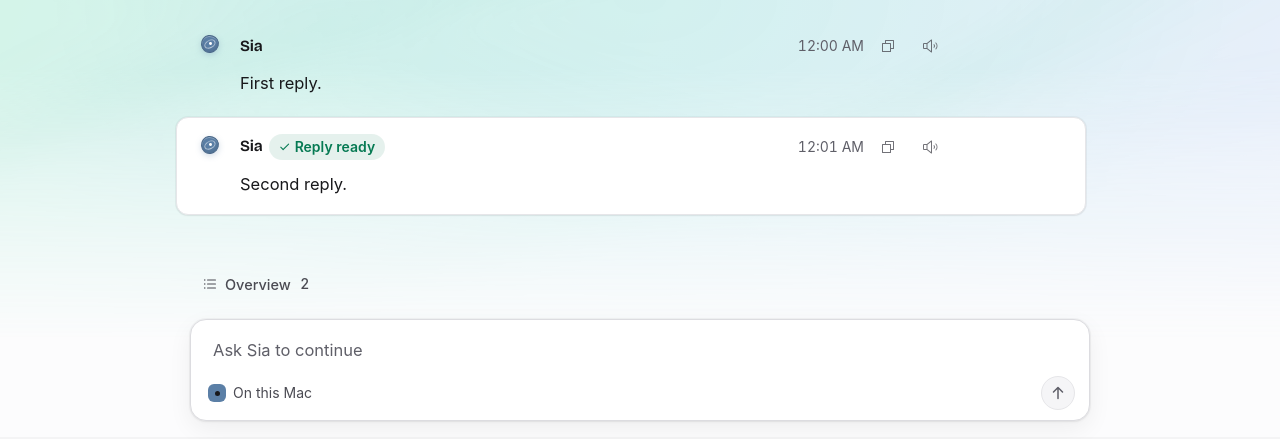
Test: Conversation waiting controls › keeps only one read-aloud request active across replies
Click the button named "Read reply aloud" next to "12:00 AM": (930, 46) [912,28,948,64]
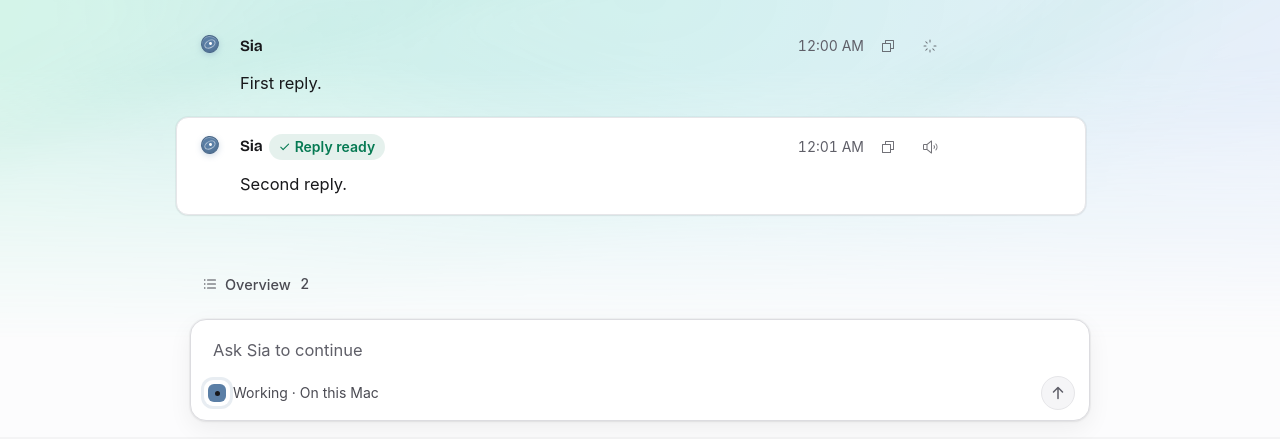
Check: the button named "Cancel read aloud" is shown, box [912,28,948,64]
Click the 2nd button with test id "message-read-aloud": (930, 147) [912,129,948,165]
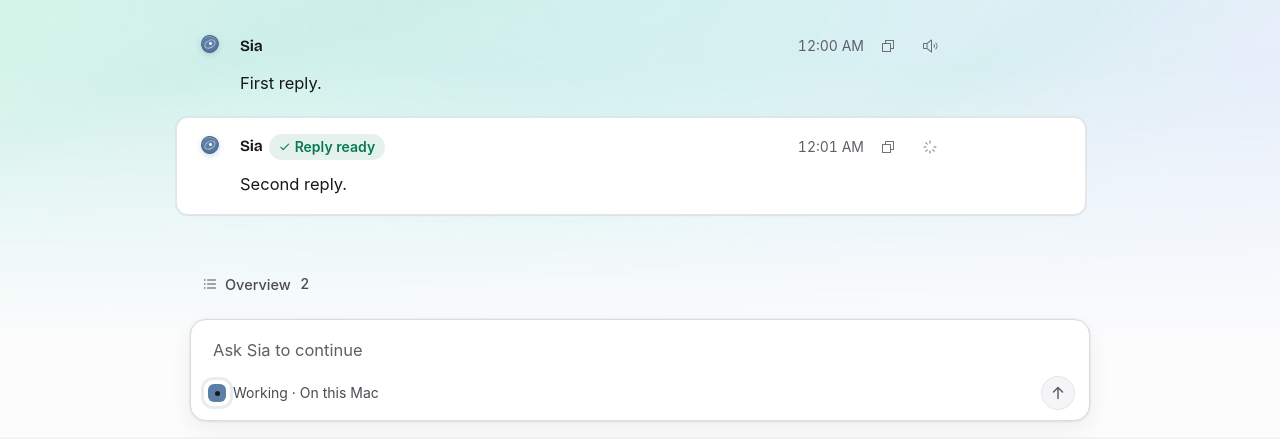
Check: the number of buttons named "Read reply aloud" is 1, box [912,28,948,64]
Check: the button named "Cancel read aloud" is shown, box [912,129,948,165]
